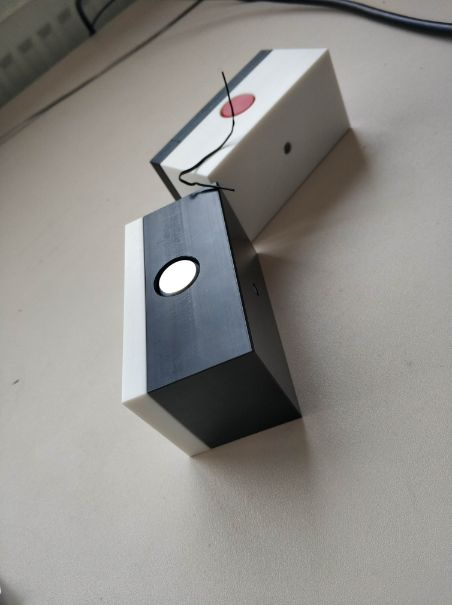black+white+red: (147, 45, 354, 245)
white+black+silver: (119, 181, 308, 459)
